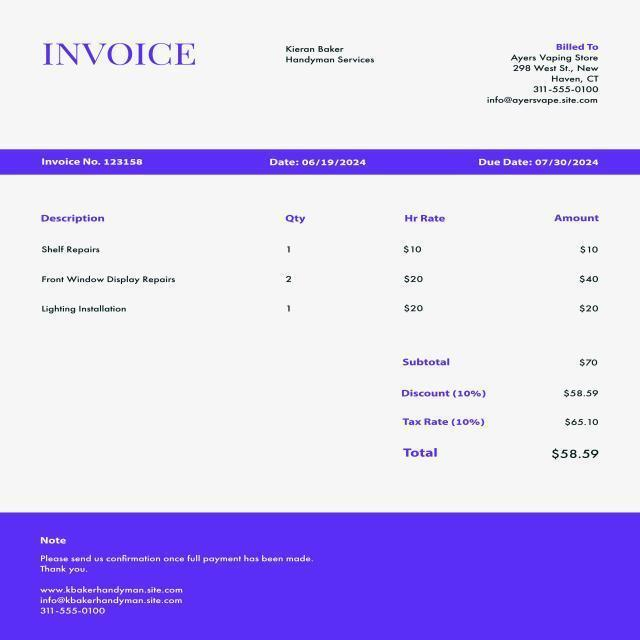ROI: (30, 204, 615, 324), (34, 532, 318, 623), (394, 352, 604, 465), (36, 151, 607, 173), (481, 37, 602, 110), (37, 33, 205, 73), (281, 38, 378, 68)
